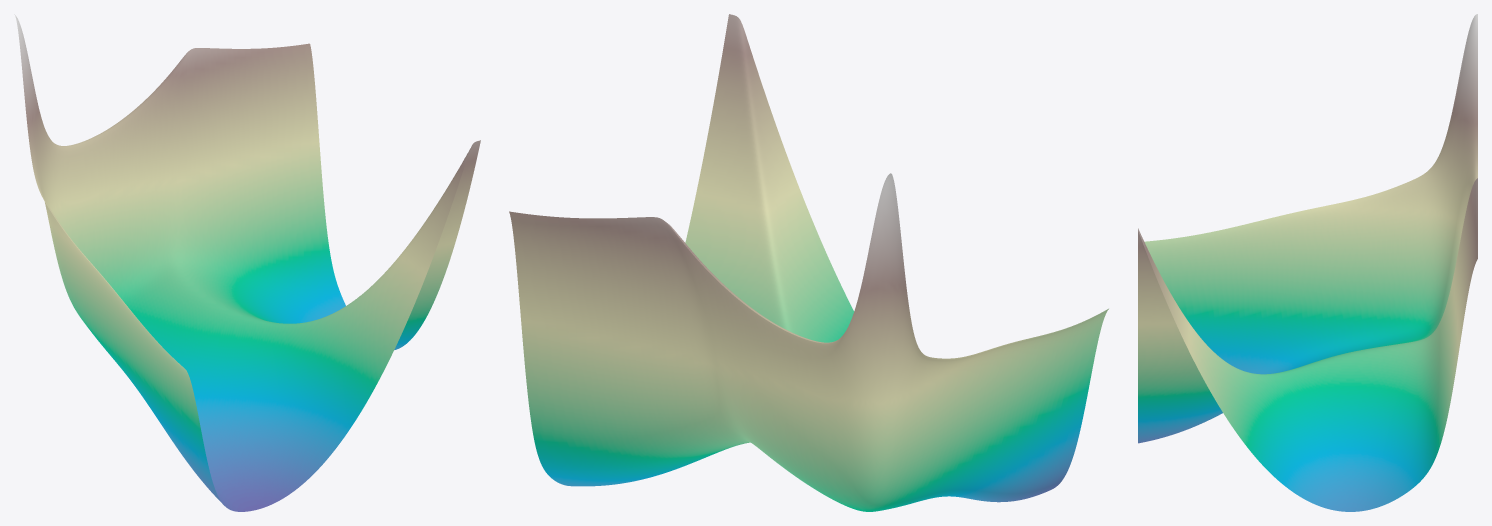
Rendered from PES.gltf.
3 views of the same model, side by side, from view 1: azimuth 30°, elevation 25°; view 2: azimuth 150°, elevation 25°; view 3: azimuth 270°, elevation 25° (orthographic). The views are drawn at different scales.
Parts seen in each view (by area): view 1: PES_Node; view 2: PES_Node; view 3: PES_Node.
Boxes of the visible parts, x1,y1,x2,y2 form: PES_Node: (14, 14, 480, 511); PES_Node: (509, 14, 1108, 511); PES_Node: (1138, 14, 1477, 511).
Bounding box in the file's own units: 4 × 5.01 × 4.
